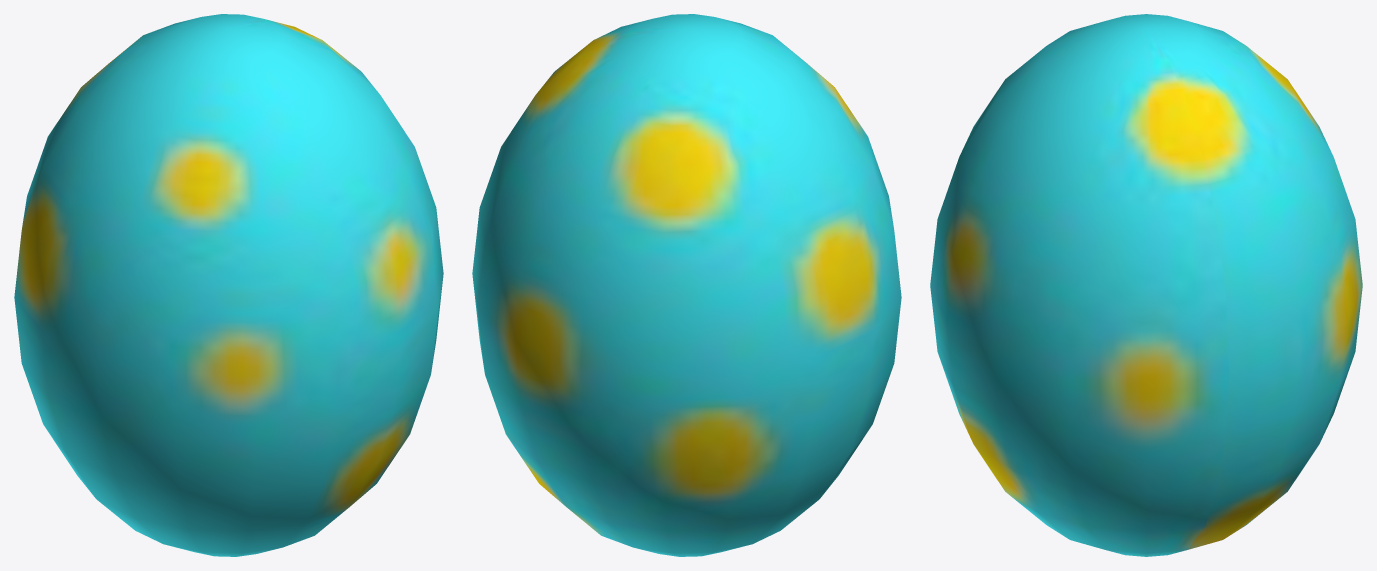
File: egg_02.fbx
The picture shows the model from 3 angles, left to right: view 1: azimuth 30°, elevation 25°; view 2: azimuth 150°, elevation 25°; view 3: azimuth 270°, elevation 25°; orthographic projection.
Visible parts, largest first — view 1: egg_02; view 2: egg_02; view 3: egg_02.
Part boxes in pixels (bbox=[...]): egg_02: bbox=[14, 14, 443, 556]; egg_02: bbox=[472, 14, 901, 556]; egg_02: bbox=[930, 14, 1362, 556].
Bounding box in the file's own units: 9.95 × 13.02 × 9.95.
